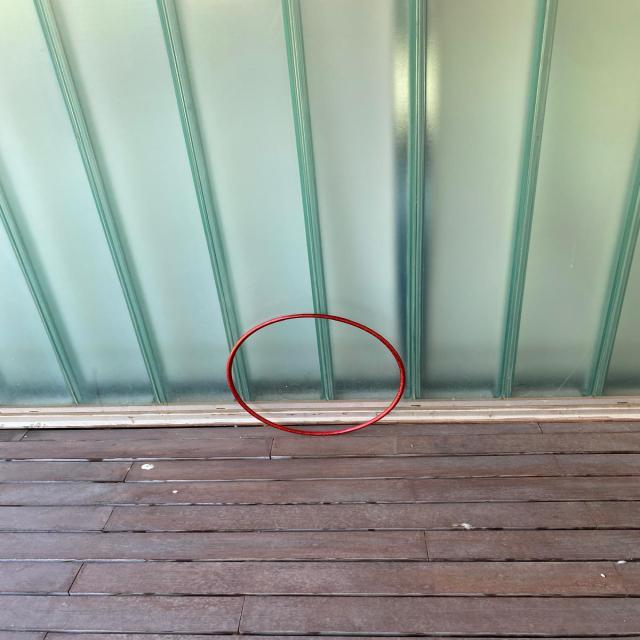Circle: (225, 312, 408, 437)
